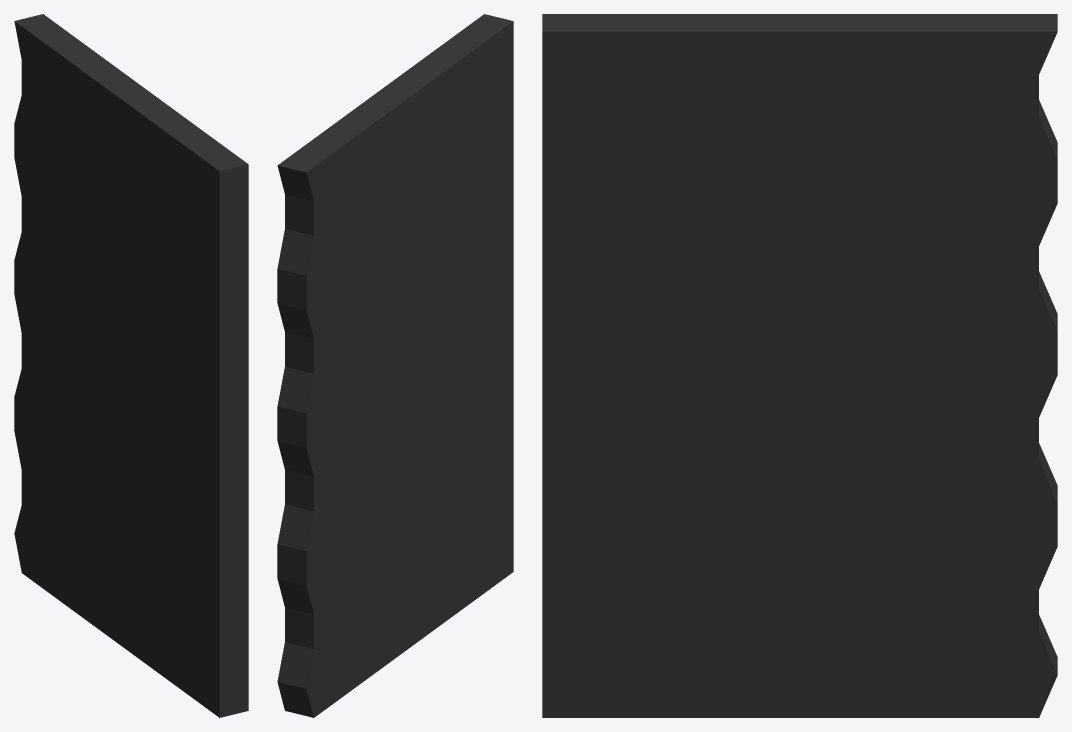
Rendered from doorPanel.fbx.
3 renders of one model, left to right at view 1: azimuth 30°, elevation 25°; view 2: azimuth 150°, elevation 25°; view 3: azimuth 270°, elevation 25°, orthographic. The views are drawn at different scales.
Parts seen in each view (by area): view 1: Cube; view 2: Cube; view 3: Cube.
Part boxes in pixels (x1,y1,x2,y2): Cube: [14, 14, 248, 717]; Cube: [277, 14, 513, 717]; Cube: [542, 14, 1057, 717].
Size of the model in its own units: 0.1348 by 2.44 by 1.66.
1 material, 1 textured.
